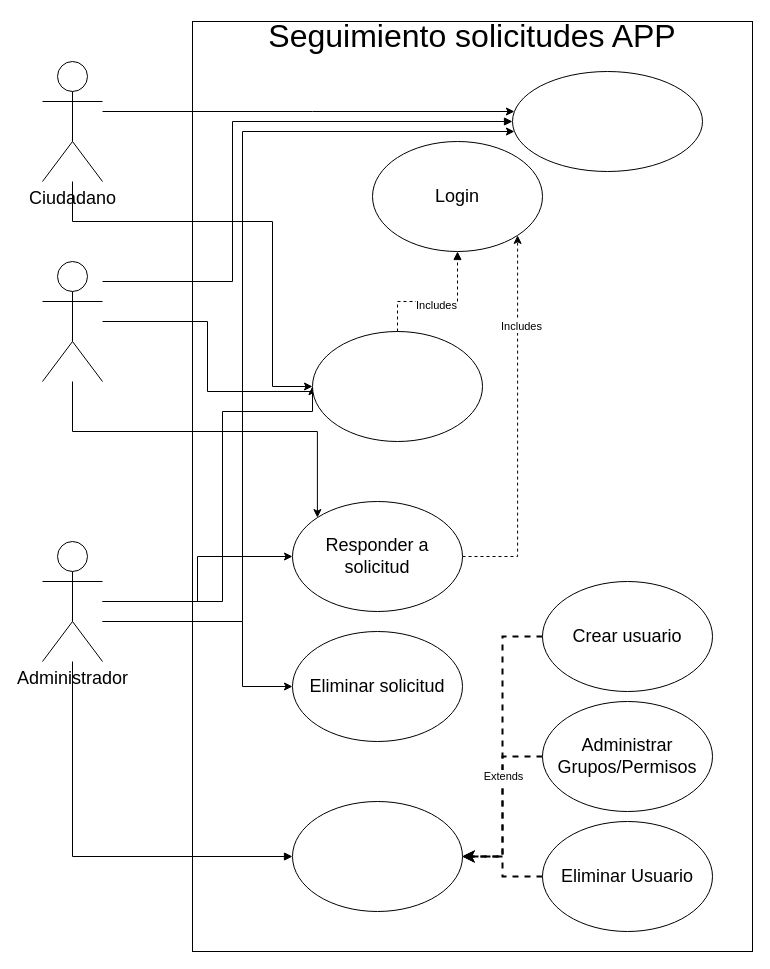
The diagram is 770 pixels wide and 969 high, and some of its shapes have lost their labels. The shapes that lost their labels are listed below. From the top down, each one's box as (x1, y1, x2, y2) in pixels, then its label:
(512, 70, 702, 172): Ver Solicitudes
(42, 260, 102, 382): Servidor
(312, 330, 482, 442): Crear Solicitud
(292, 800, 462, 912): Menú de administración (Admin)
